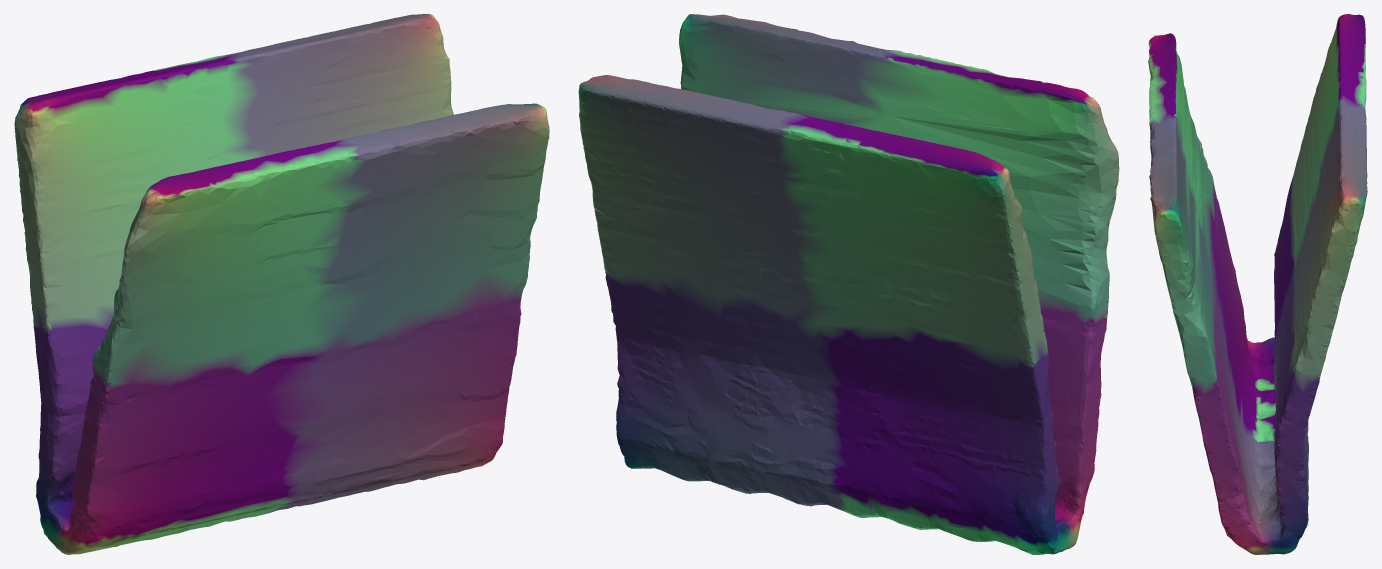
Rendered from paper-17.off.obj.
3 views of the same model, side by side, from view 1: azimuth 30°, elevation 25°; view 2: azimuth 150°, elevation 25°; view 3: azimuth 270°, elevation 25° (orthographic). The views are drawn at different scales.
Size of the model in its own units: 1.3 by 1.22 by 0.6428.
